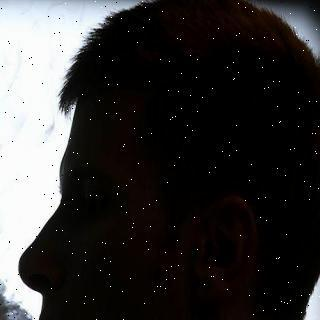smoke: (0, 74, 13, 320)
